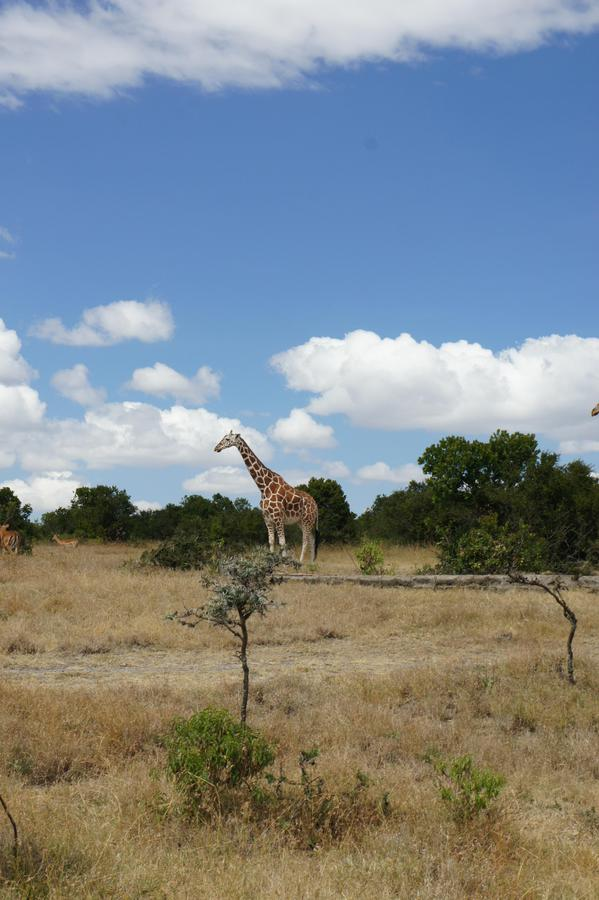giraffe: (212, 430, 324, 551)
